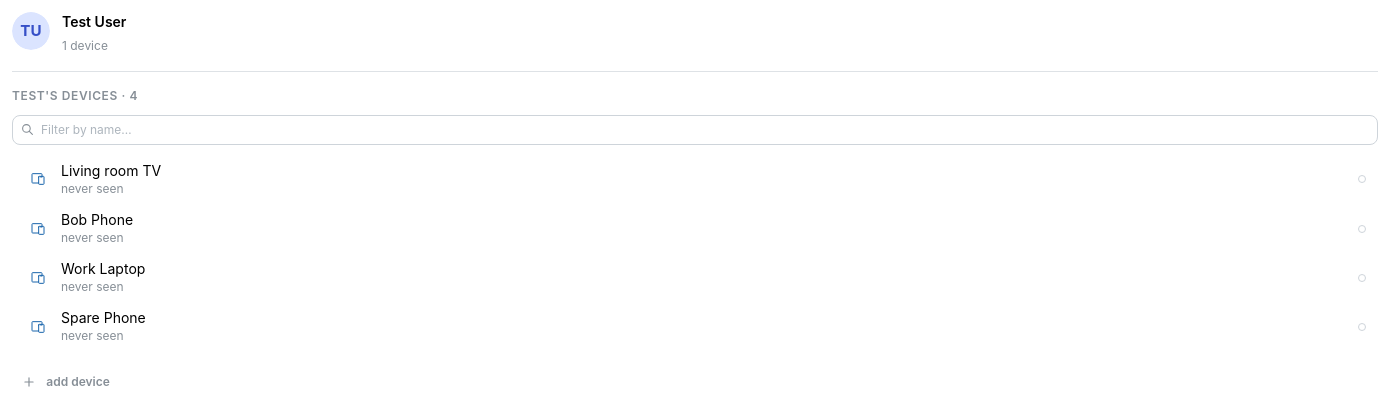
Test: OwnerDevicesPanel › name filter › filters devices by name, case-insensitively
Step 1. Type "phone" into the field with placeholder "Filter by name…" → (695, 130), box [12,115,1378,145]
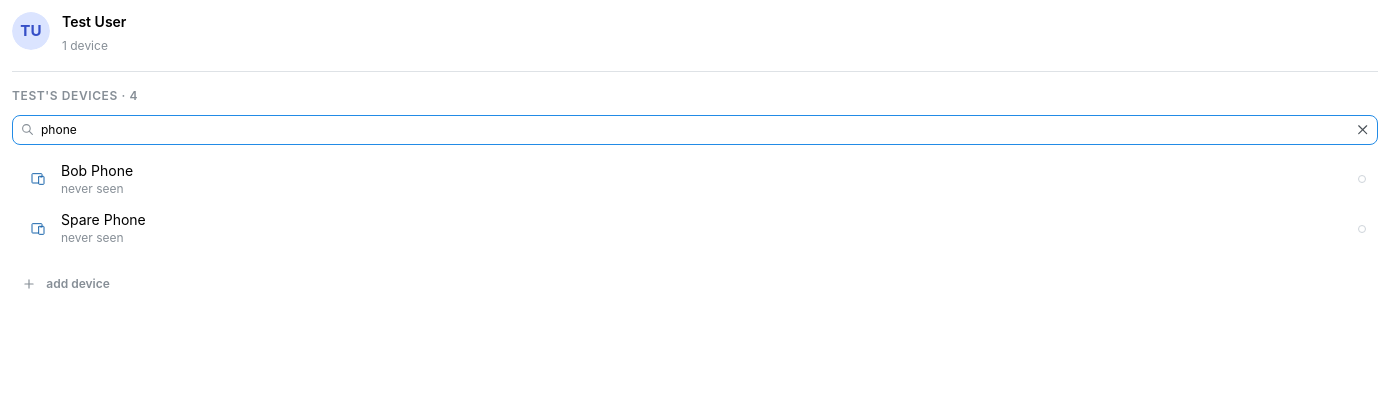
Expected: the text "Bob Phone" is shown, [61,162,133,179]
Now the button "Living room TV" is gone
Now the button "Work Laptop" is gone
